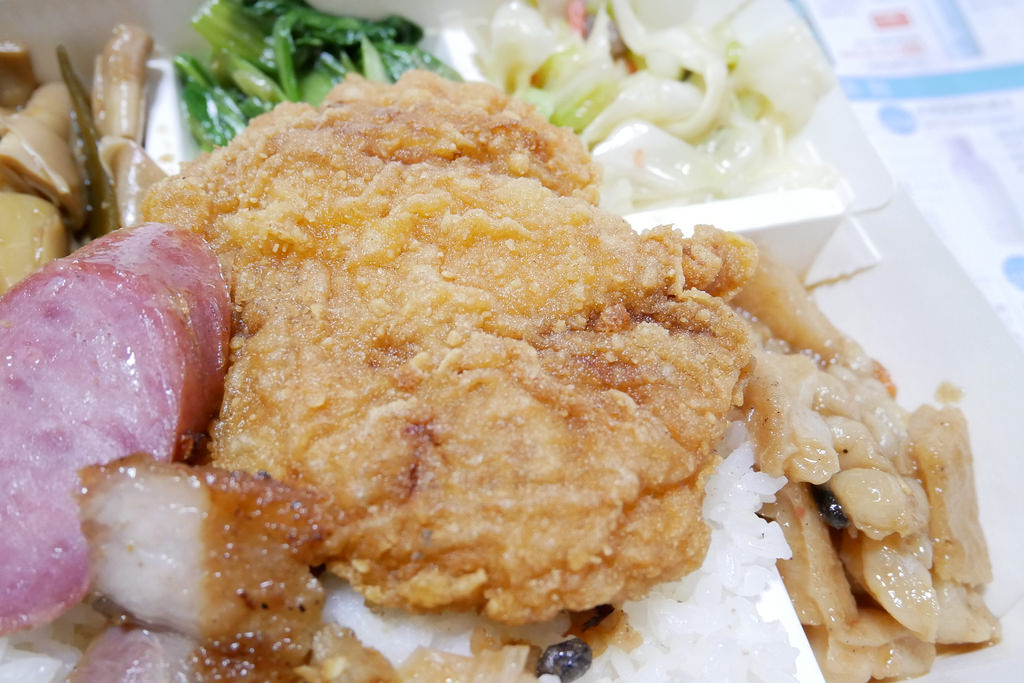chinese_sausage: (1, 241, 219, 445)
fried_chicken: (160, 75, 759, 639)
